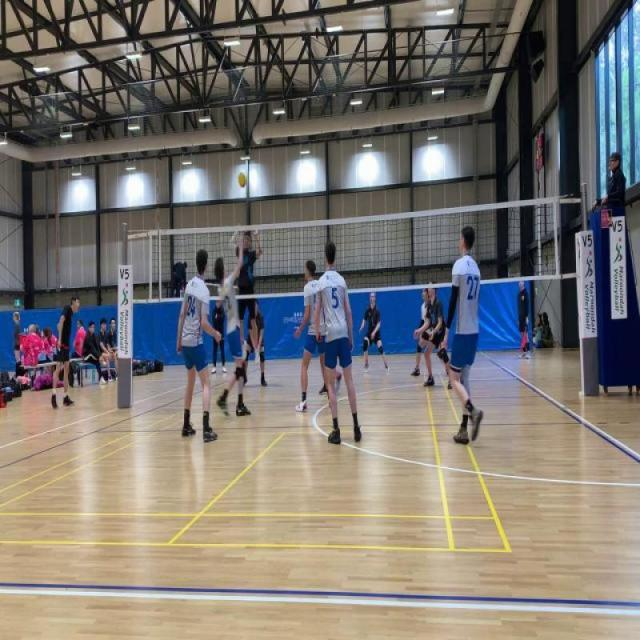volleyball: (236, 170, 248, 189)
